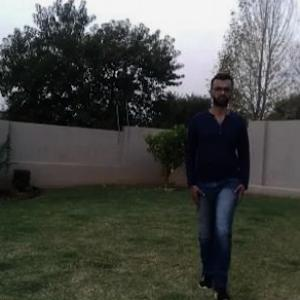follow: (188, 89, 246, 270)
